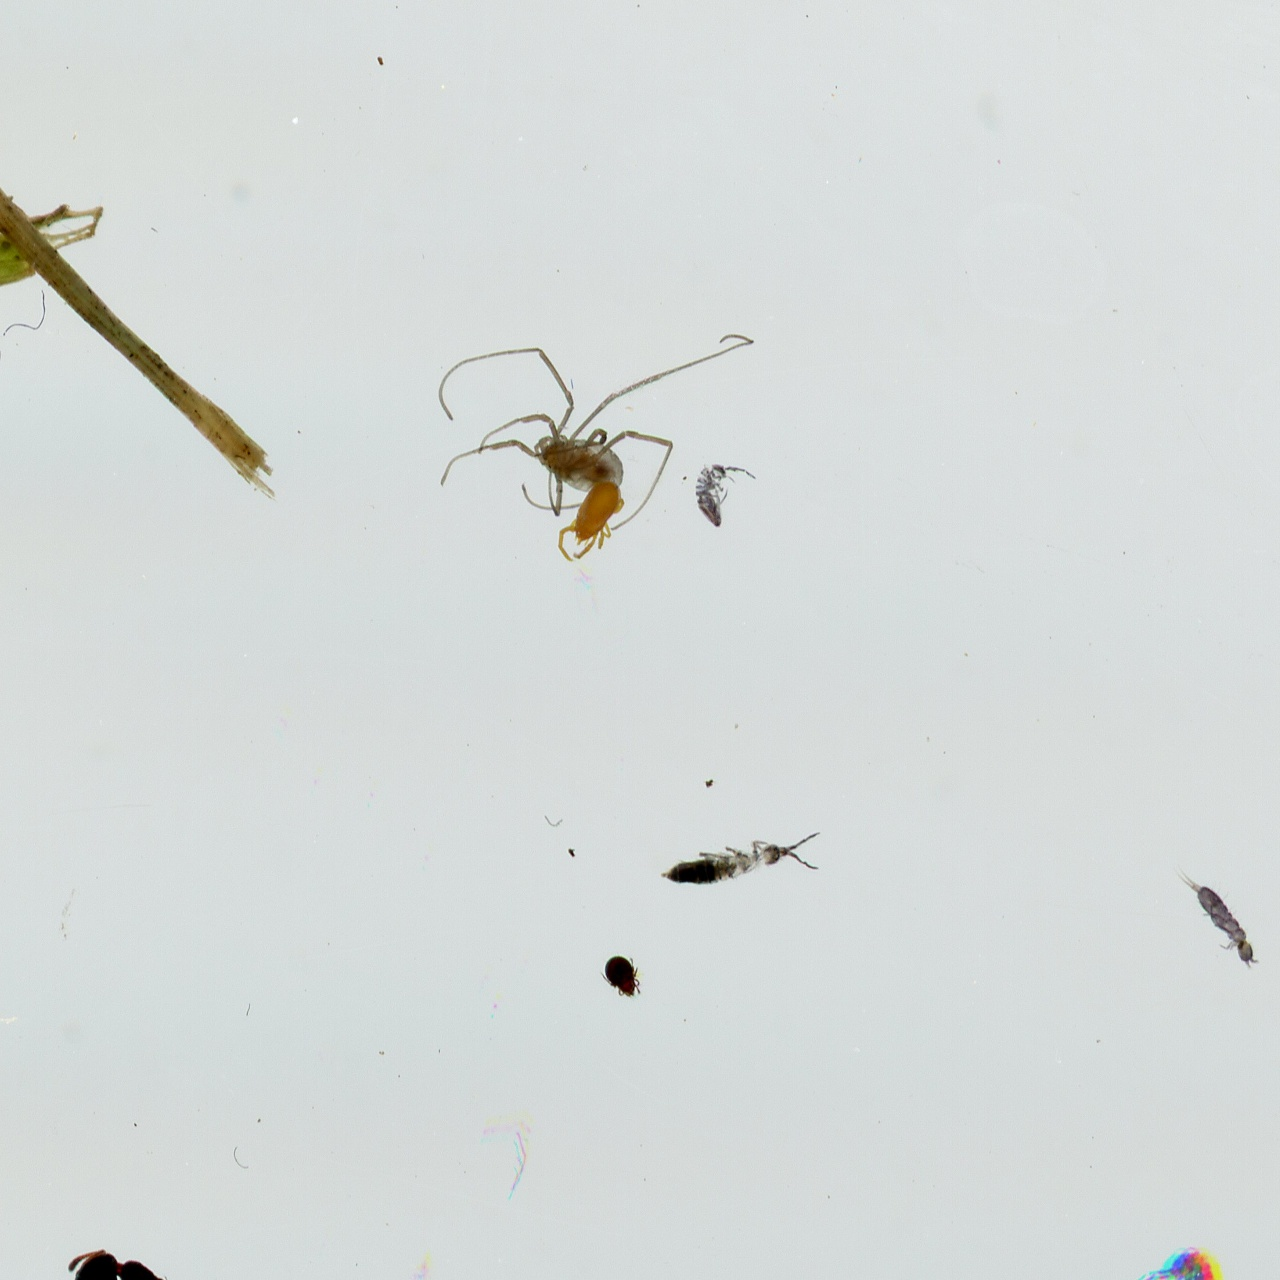arthropod: (433, 331, 755, 533), (1162, 850, 1278, 989), (642, 826, 828, 899), (548, 469, 634, 576), (62, 1241, 234, 1280), (690, 460, 759, 530), (1118, 1244, 1231, 1280), (593, 948, 651, 1008)
